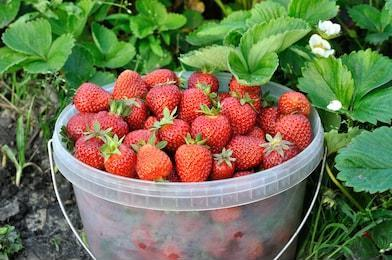Fresa: (72, 127, 119, 171), (145, 81, 186, 125), (174, 138, 214, 183), (189, 111, 234, 151), (272, 111, 316, 150), (178, 84, 217, 127), (135, 142, 175, 183), (101, 139, 140, 181), (108, 67, 151, 103), (74, 79, 115, 115), (208, 150, 236, 182)
